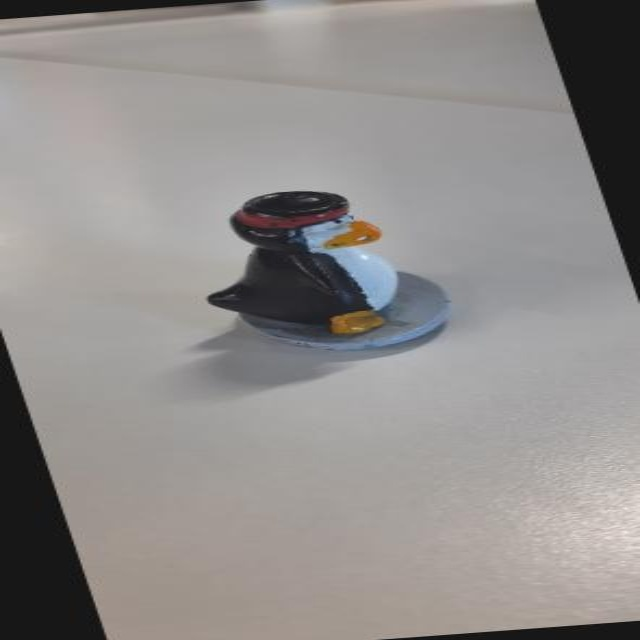Penguin: (143, 156, 488, 375)
